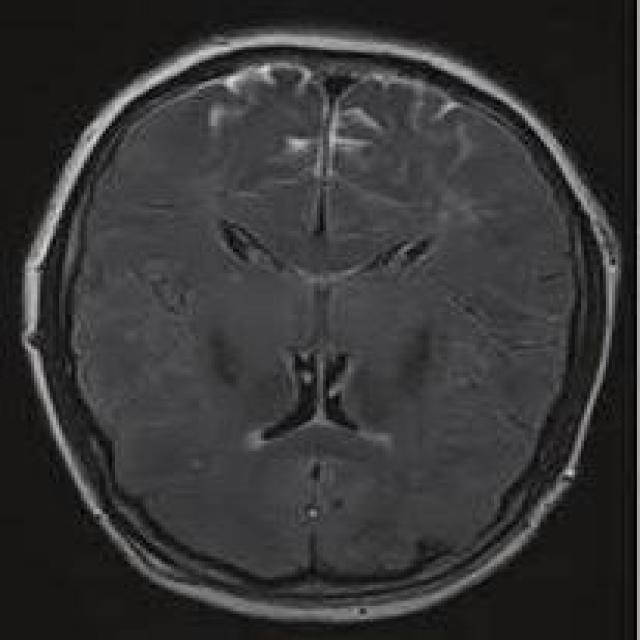notumor: (22, 31, 618, 622)
